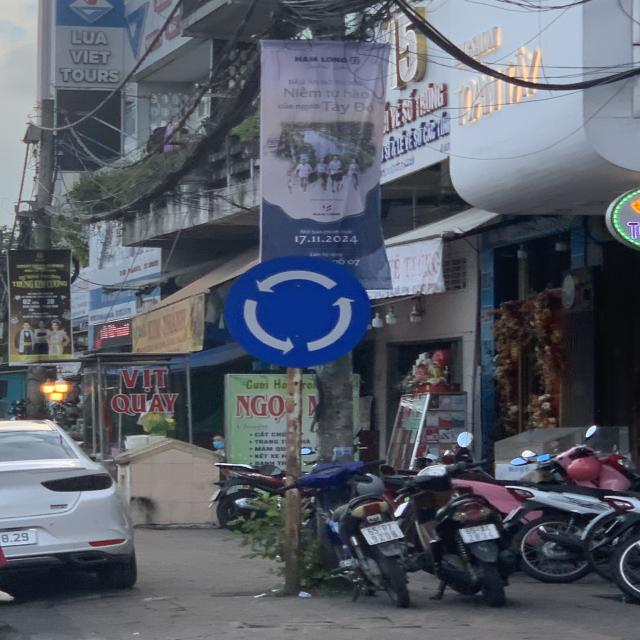Xe_Bus: (222, 252, 372, 370)
